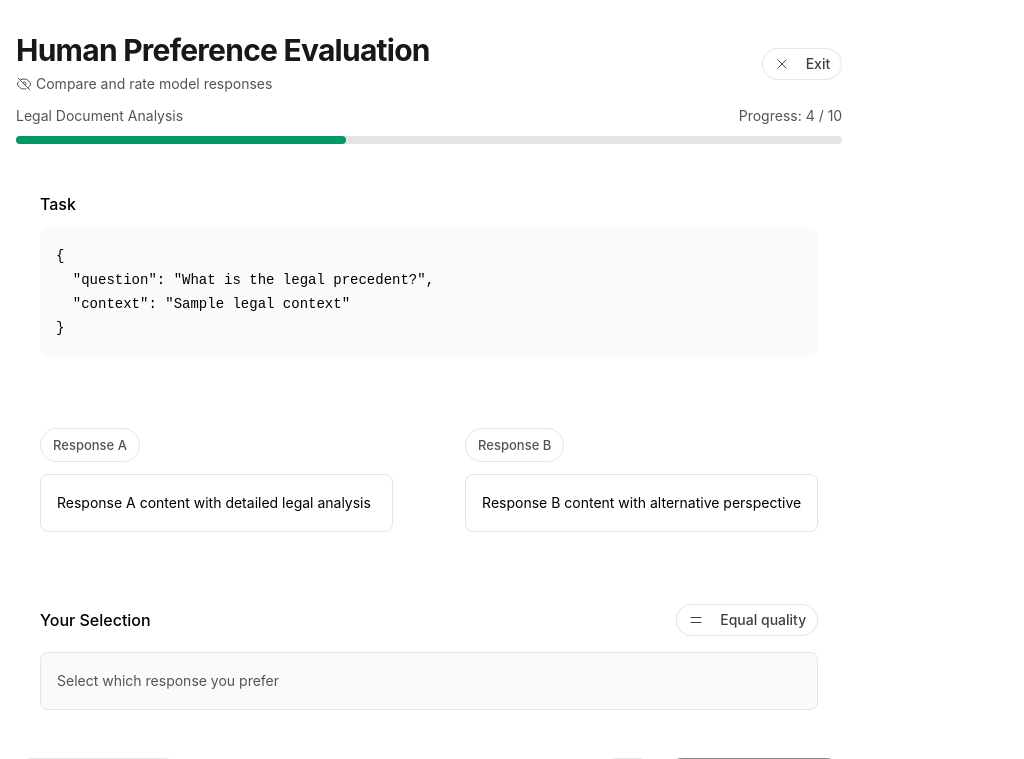
Test: PreferenceEvaluation › selection handling › allows selecting a winner by clicking response card
Expected: the text "Response A" is shown, x1=40 y1=428 x2=140 y2=462
Click the element with test id "card" that starts with "Response A".
click(217, 480)  # box x1=16 y1=404 x2=417 y2=556
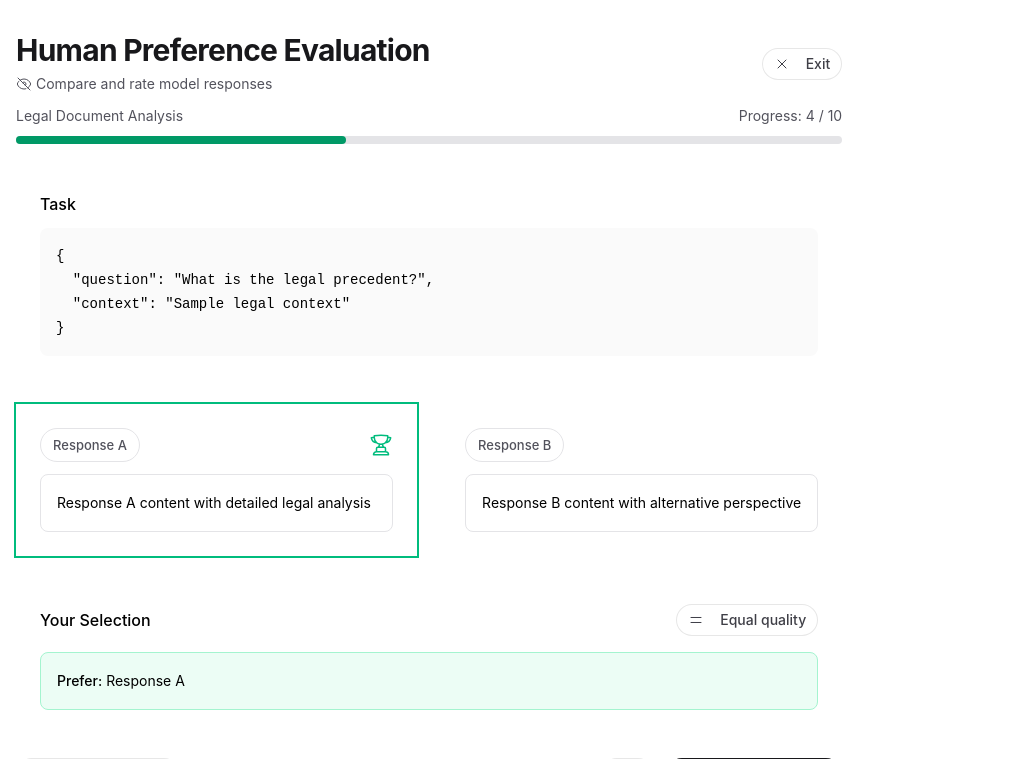
Expected: the text "Prefer:" is shown, x1=57 y1=672 x2=102 y2=689
